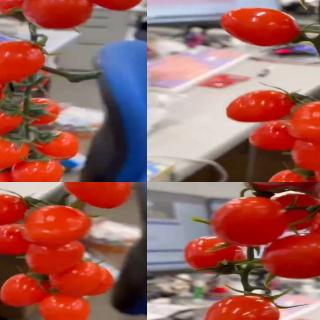tomato: (208, 198, 288, 249), (220, 6, 302, 46), (23, 205, 94, 247), (262, 231, 320, 279), (224, 88, 296, 123), (182, 238, 248, 276), (51, 260, 117, 297), (26, 238, 86, 277), (20, 0, 93, 29), (0, 39, 46, 84), (62, 182, 133, 211), (204, 294, 281, 320), (0, 272, 54, 309), (248, 119, 302, 152), (30, 130, 80, 162), (36, 291, 90, 320), (19, 97, 66, 127), (289, 101, 320, 143), (12, 159, 65, 182), (0, 223, 35, 256), (0, 133, 31, 170), (291, 134, 320, 172), (0, 192, 30, 227), (0, 104, 25, 138), (264, 168, 320, 182), (0, 0, 38, 19), (77, 0, 146, 10), (308, 206, 320, 255)
